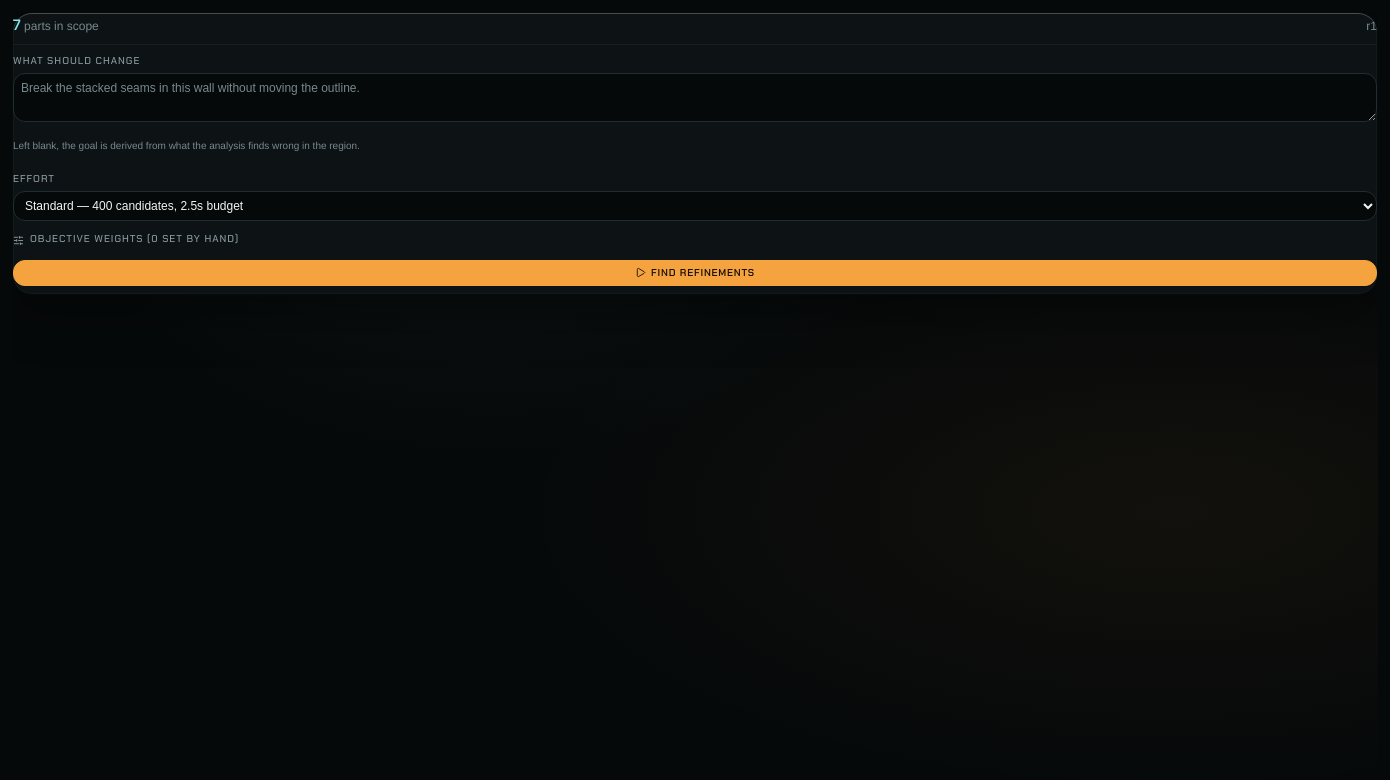
failure › reports a transport failure as an alert with the reason and a way forward
The width and height of the screenshot is (1390, 780).
Click the button "Find refinements".
click(695, 273)  # box [13,260,1377,286]
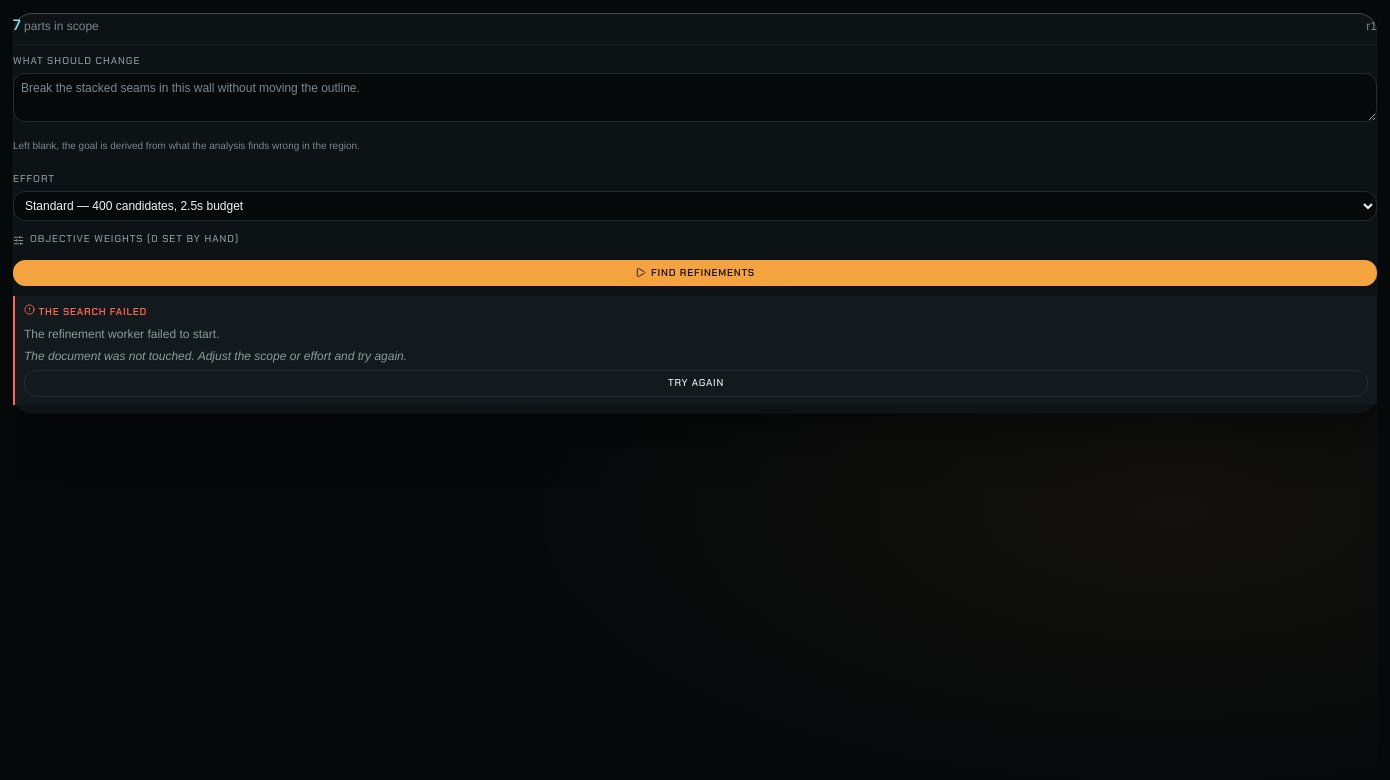
Expected: the text "The search failed" is shown, [24,304,147,319]
Expected: the text "The refinement worker failed to start." is shown, [24,326,219,340]
Expected: the text "The document was not touched" is shown, [24,349,407,363]
